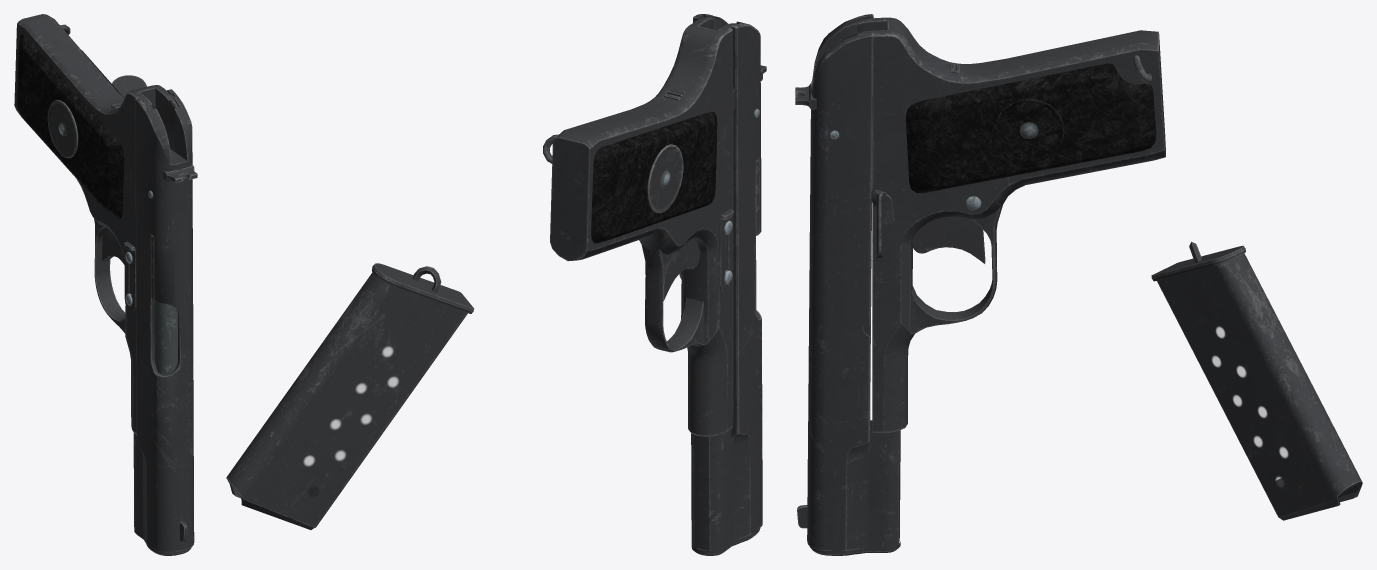
Rendered from tt_pistol.glb.
3 views of the same model, side by side, from view 1: azimuth 30°, elevation 25°; view 2: azimuth 150°, elevation 25°; view 3: azimuth 270°, elevation 25° (orthographic). The views are drawn at different scales.
Visible parts, largest first — view 1: tt_slide, tt_base, tt_mag; view 2: tt_base, tt_mag, tt_slide; view 3: tt_base, tt_slide, tt_mag.
Boxes of the visible parts, x1,y1,x2,y2 form: tt_slide: (133,89,197,555); tt_base: (14,14,178,434); tt_mag: (112,75,146,97); tt_base: (543,17,737,436); tt_mag: (226,263,474,529); tt_slide: (691,14,766,555); tt_base: (842,17,1165,432); tt_slide: (795,14,900,555); tt_mag: (1151,242,1362,520).
Bounding box in the file's own units: 0.3757 × 0.663 × 0.6507.
1 material, 1 textured.
